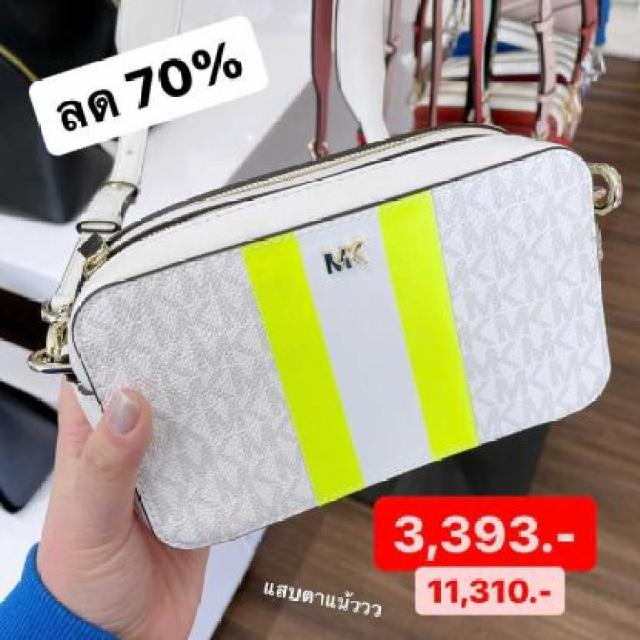Bag: (42, 120, 636, 554)
